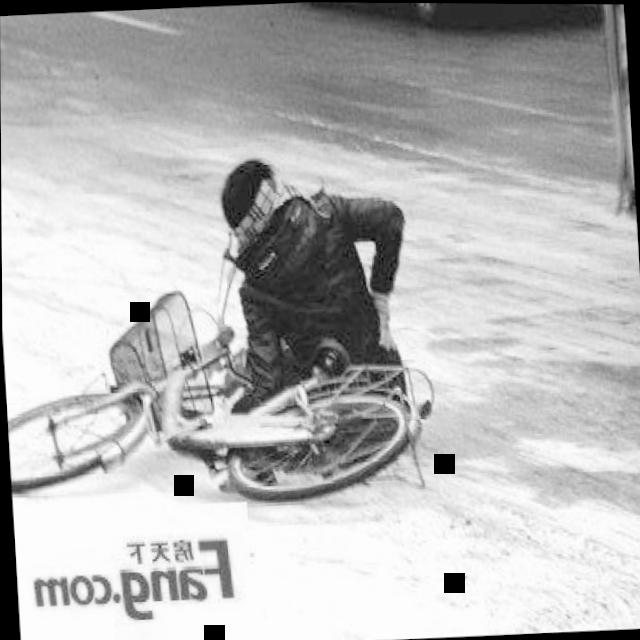Fall-Detected: (193, 122, 439, 433)
